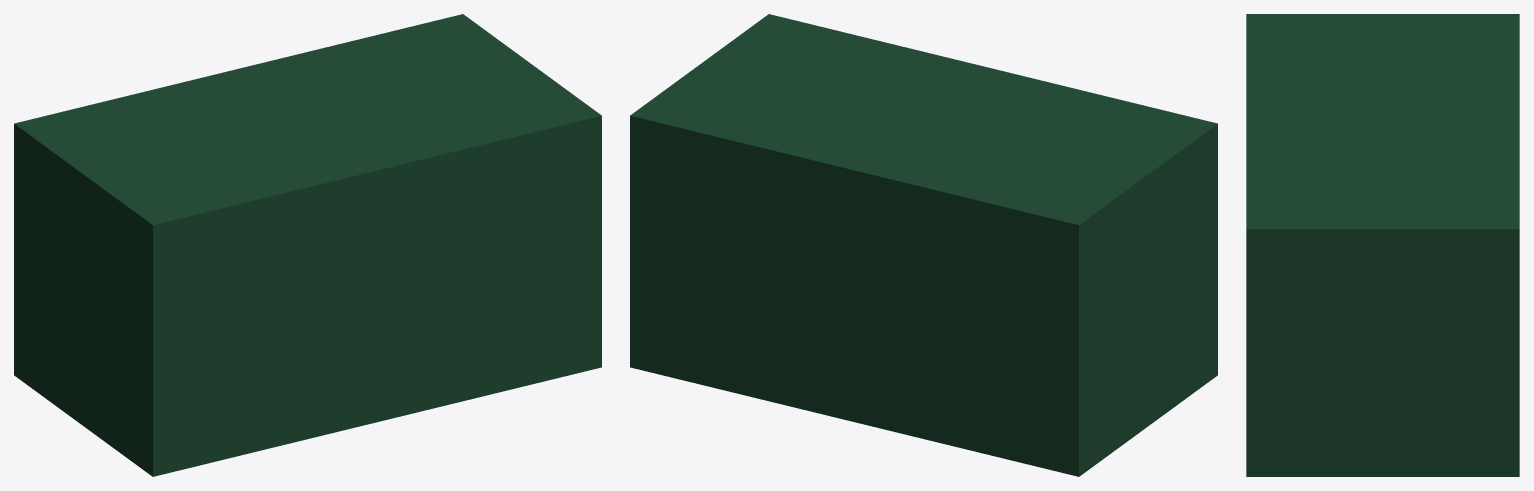
File: Detail_50_0.glb
3 views of the same model, side by side, from view 1: azimuth 30°, elevation 25°; view 2: azimuth 150°, elevation 25°; view 3: azimuth 270°, elevation 25° (orthographic).
Parts seen in each view (by area): view 1: Detail_50_0; view 2: Detail_50_0; view 3: Detail_50_0.
Boxes of the visible parts, left/top/right/bottom form: Detail_50_0: left=14, top=14, right=601, bottom=476; Detail_50_0: left=630, top=14, right=1217, bottom=476; Detail_50_0: left=1246, top=14, right=1519, bottom=476.
Bounding box in the file's own units: 2.8 × 1.5 × 1.5.
